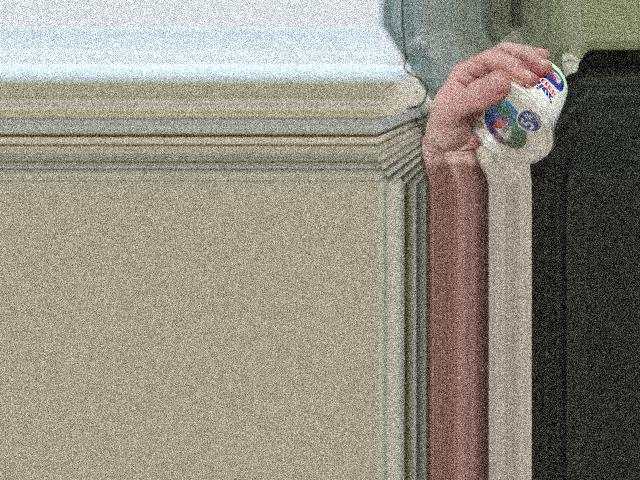cotage: (473, 55, 567, 168)
